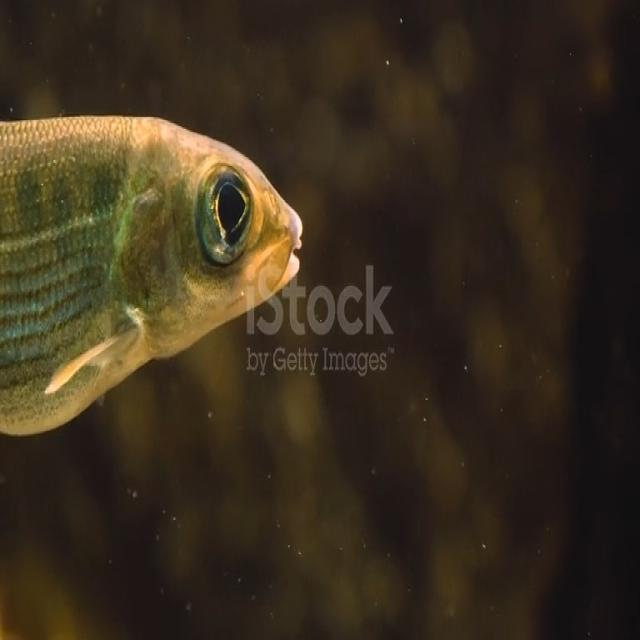fish: (1, 110, 312, 443)
